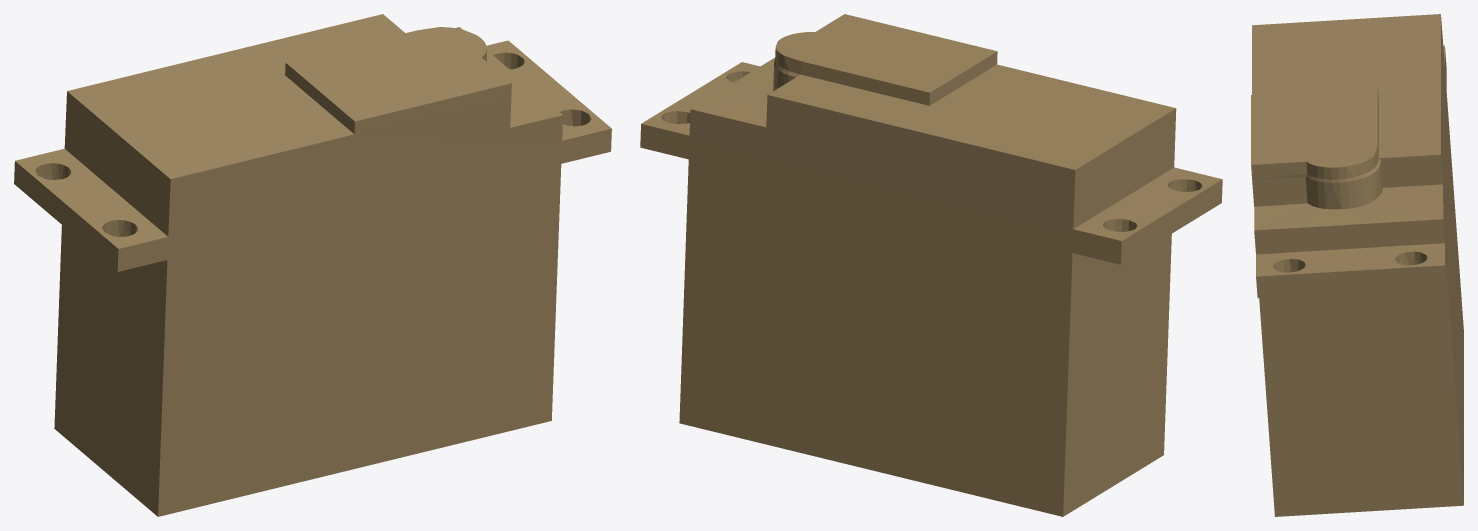
File: right_shoulder_x_link_visual_1.obj.light.glb
3 views of the same model, side by side, from view 1: azimuth 30°, elevation 25°; view 2: azimuth 150°, elevation 25°; view 3: azimuth 270°, elevation 25° (orthographic). The views are drawn at different scales.
Bounding box in the file's own units: 0.7755 × 0.5533 × 0.3176.
